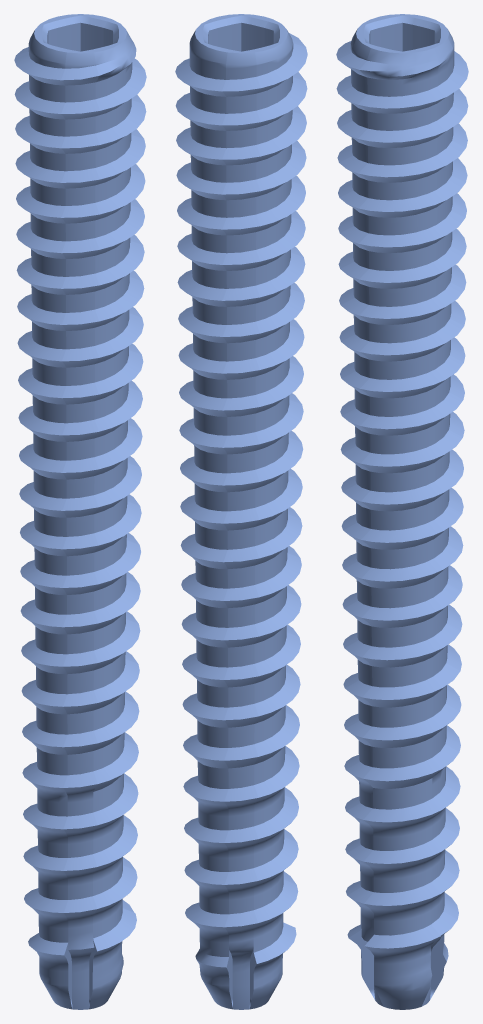
File: os40_headless_4p5x40_lod1.glb
3 views of the same model, side by side, from view 1: azimuth 30°, elevation 25°; view 2: azimuth 150°, elevation 25°; view 3: azimuth 330°, elevation 25° (orthographic).
Parts seen in each view (by area): view 1: os40_headless_4p5x40; view 2: os40_headless_4p5x40; view 3: os40_headless_4p5x40.
Boxes of the visible parts, box(x1,y1,x2,y2) form: os40_headless_4p5x40: box(14, 14, 146, 1009); os40_headless_4p5x40: box(175, 14, 307, 1009); os40_headless_4p5x40: box(336, 14, 468, 1009).
Bounding box in the file's own units: 0.00498 × 0.04 × 0.00497.
